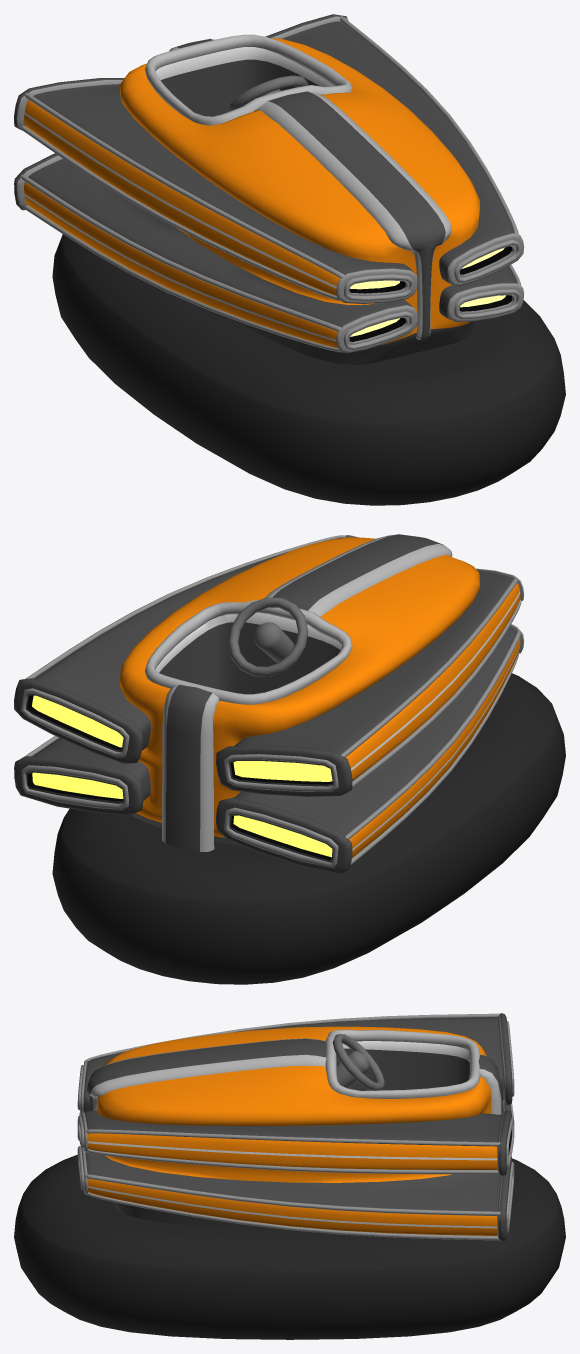
Rendered from mesh_Car_Menu_H.fbx.
3 renders of one model, top to bottom at view 1: azimuth 30°, elevation 25°; view 2: azimuth 150°, elevation 25°; view 3: azimuth 270°, elevation 25°, orthographic. The views are drawn at different scales.
Visible parts, largest first — view 1: mesh_Car_Menu_H; view 2: mesh_Car_Menu_H; view 3: mesh_Car_Menu_H.
Boxes of the visible parts, <box> form: mesh_Car_Menu_H: <box>14,14,565,505</box>; mesh_Car_Menu_H: <box>14,534,565,984</box>; mesh_Car_Menu_H: <box>14,1013,565,1339</box>.
Size of the model in its own units: 1.79 by 1.5 by 2.97.
